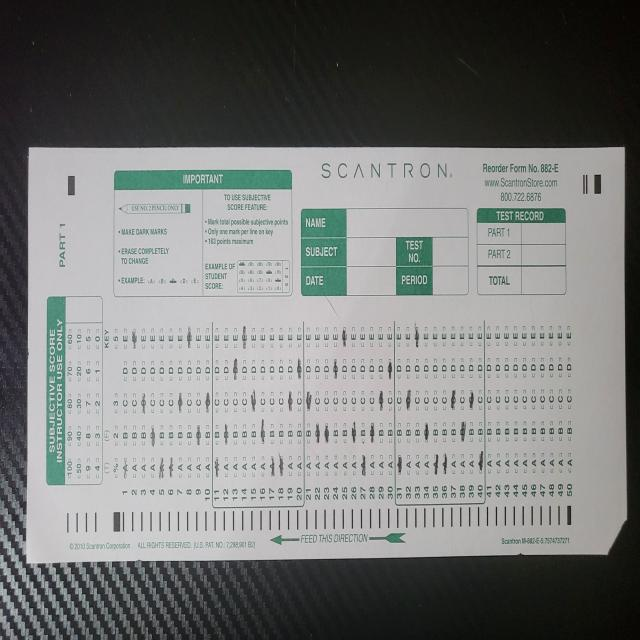scantron: (26, 146, 626, 563)
